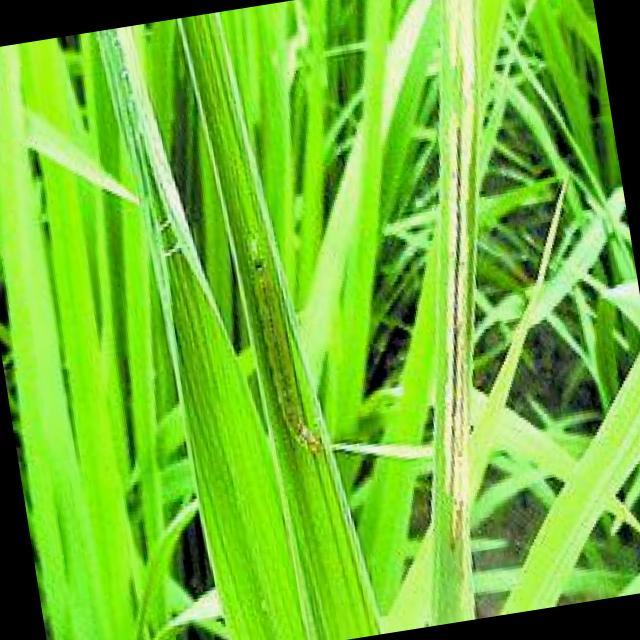leaf folder: (296, 423, 318, 452)
